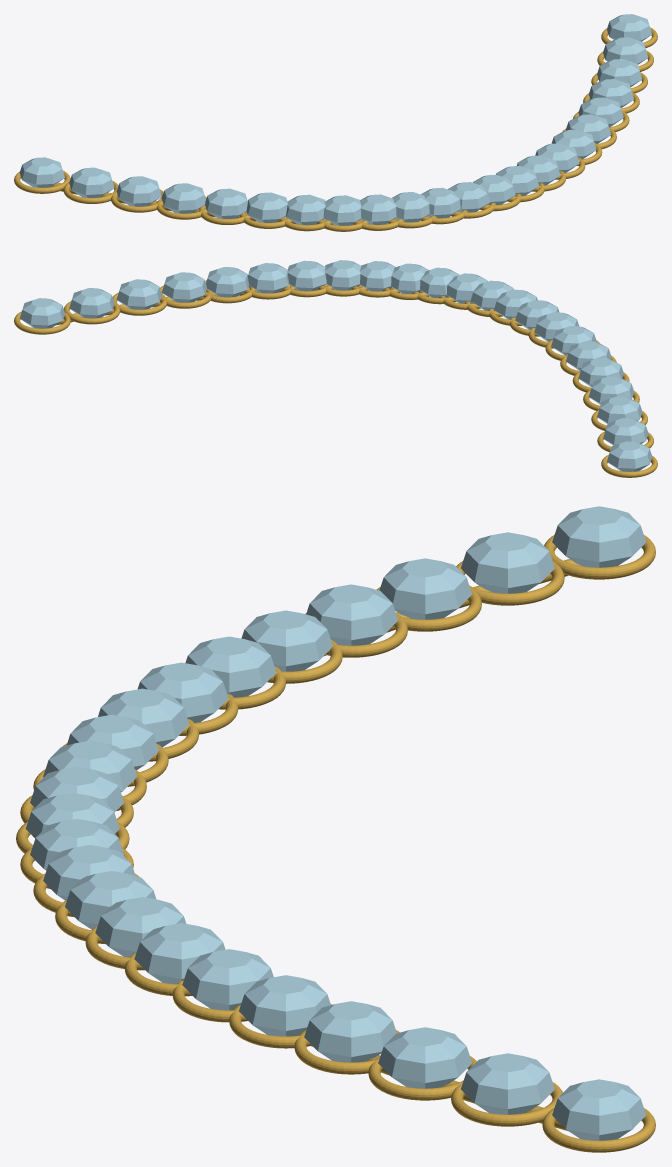
3 renders of one model, top to bottom at view 1: azimuth 30°, elevation 25°; view 2: azimuth 150°, elevation 25°; view 3: azimuth 270°, elevation 25°, orthographic. The views are drawn at different scales.
Visible parts, largest first — view 1: TI020 / individual astramarine 0, TI020 / individual astramarine 1, TI020 / individual astramarine 2, TI020 / individual astramarine 3, TI020 / individual astramarine 4, TI020 / individual astramarine 5, TI020 / individual astramarine 6, TI020 / individual astramarine 7, TI020 / individual astramarine 22, TI020 / individual astramarine 8, TI020 / individual astramarine 21, TI020 / individual astramarine 9 (+17 smaller); view 2: TI020 / individual astramarine 0, TI020 / individual astramarine 22, TI020 / individual astramarine 19, TI020 / individual astramarine 21, TI020 / individual astramarine 20, TI020 / individual astramarine 18, TI020 / individual astramarine 17, TI020 / individual astramarine 16, TI020 / individual astramarine 1, TI020 / individual astramarine 15, TI020 / individual astramarine 2, TI020 / individual astramarine 14 (+17 smaller); view 3: TI020 / individual astramarine 0, TI020 / individual astramarine 22, TI020 / individual astramarine 20, TI020 / individual astramarine 1, TI020 / individual astramarine 21, TI020 / individual astramarine 19, TI020 / individual astramarine 2, TI020 / individual astramarine 3, TI020 / individual astramarine 18, TI020 / individual astramarine 17, TI020 / individual astramarine 4, TI020 / individual astramarine 16 (+22 smaller).
Part boxes in pixels (x1=…): TI020 / individual astramarine 0: x1=19, y1=157, x2=64, y2=187; TI020 / individual astramarine 1: x1=69, y1=167, x2=114, y2=197; TI020 / individual astramarine 2: x1=116, y1=176, x2=161, y2=206; TI020 / individual astramarine 3: x1=161, y1=183, x2=205, y2=213; TI020 / individual astramarine 4: x1=205, y1=188, x2=247, y2=218; TI020 / individual astramarine 5: x1=246, y1=192, x2=287, y2=222; TI020 / individual astramarine 6: x1=286, y1=194, x2=325, y2=225; TI020 / individual astramarine 7: x1=323, y1=195, x2=361, y2=225; TI020 / individual astramarine 22: x1=607, y1=14, x2=652, y2=41; TI020 / individual astramarine 8: x1=360, y1=194, x2=396, y2=224; TI020 / individual astramarine 21: x1=603, y1=37, x2=648, y2=64; TI020 / individual astramarine 9: x1=392, y1=192, x2=429, y2=222; TI020 / individual astramarine 0: x1=607, y1=441, x2=652, y2=471; TI020 / individual astramarine 22: x1=19, y1=298, x2=64, y2=328; TI020 / individual astramarine 19: x1=162, y1=272, x2=206, y2=302; TI020 / individual astramarine 21: x1=69, y1=288, x2=114, y2=318; TI020 / individual astramarine 20: x1=116, y1=279, x2=161, y2=309; TI020 / individual astramarine 18: x1=206, y1=267, x2=249, y2=297; TI020 / individual astramarine 17: x1=247, y1=263, x2=289, y2=293; TI020 / individual astramarine 16: x1=287, y1=260, x2=326, y2=291; TI020 / individual astramarine 1: x1=603, y1=418, x2=648, y2=445; TI020 / individual astramarine 15: x1=324, y1=260, x2=361, y2=290; TI020 / individual astramarine 2: x1=597, y1=396, x2=642, y2=423; TI020 / individual astramarine 14: x1=360, y1=261, x2=395, y2=291; TI020 / individual astramarine 0: x1=552, y1=506, x2=646, y2=567; TI020 / individual astramarine 22: x1=552, y1=1079, x2=646, y2=1140; TI020 / individual astramarine 20: x1=378, y1=1027, x2=471, y2=1088; TI020 / individual astramarine 1: x1=461, y1=532, x2=554, y2=593; TI020 / individual astramarine 21: x1=461, y1=1053, x2=554, y2=1114; TI020 / individual astramarine 19: x1=304, y1=1001, x2=396, y2=1062; TI020 / individual astramarine 2: x1=379, y1=558, x2=472, y2=619; TI020 / individual astramarine 3: x1=306, y1=584, x2=398, y2=645; TI020 / individual astramarine 18: x1=239, y1=975, x2=330, y2=1036; TI020 / individual astramarine 17: x1=182, y1=949, x2=273, y2=1010; TI020 / individual astramarine 4: x1=241, y1=610, x2=332, y2=671; TI020 / individual astramarine 16: x1=134, y1=923, x2=225, y2=984.
Bounding box in the file's own units: 4.05 × 0.1651 × 1.77.
